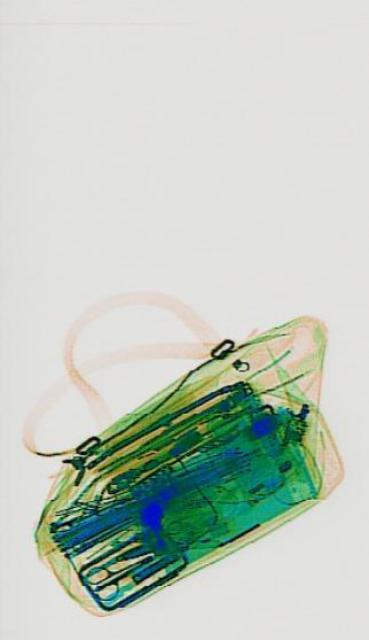Scissors: (82, 534, 153, 608)
